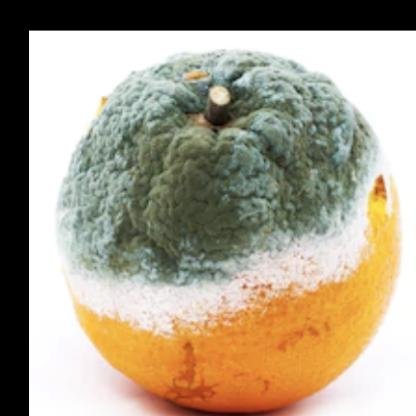rotten: (57, 53, 395, 416)
